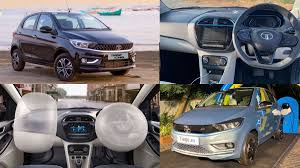Tiago: (8, 10, 141, 79)
